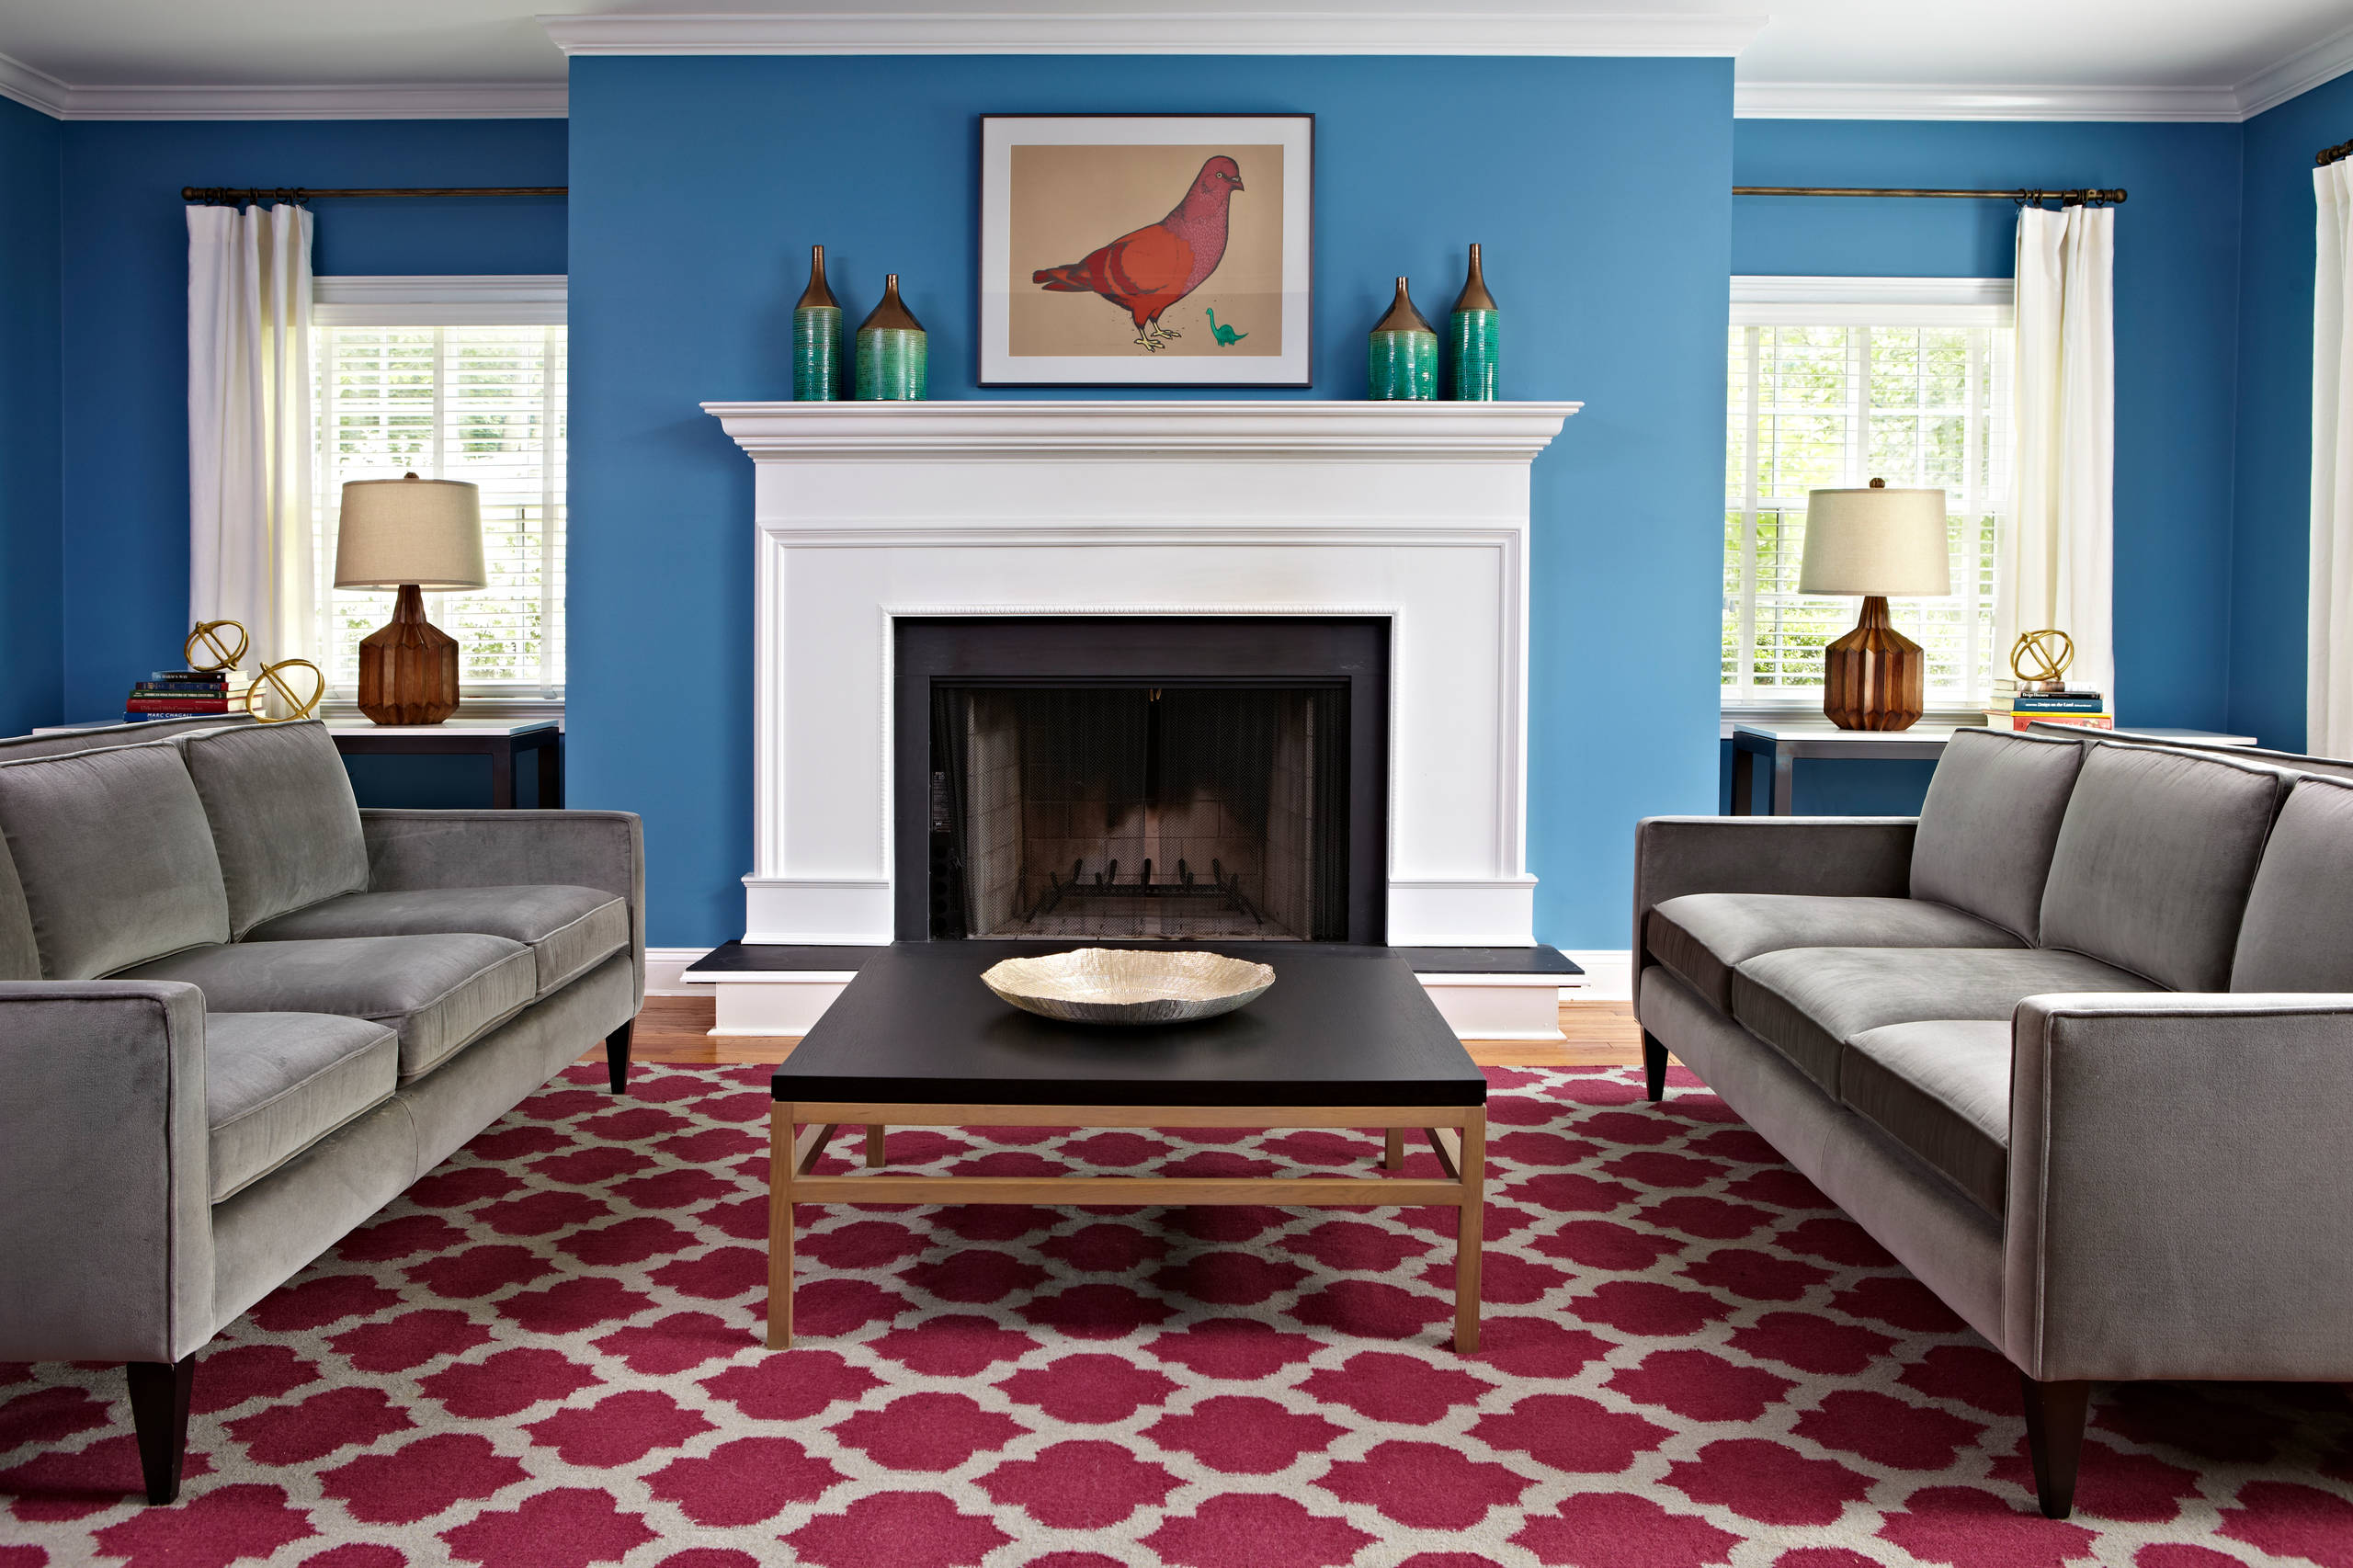coklat: (355, 588, 467, 723), (1821, 595, 1930, 732)
hitam: (789, 941, 1478, 1104)
putih: (331, 485, 493, 593), (1804, 487, 1949, 590)
